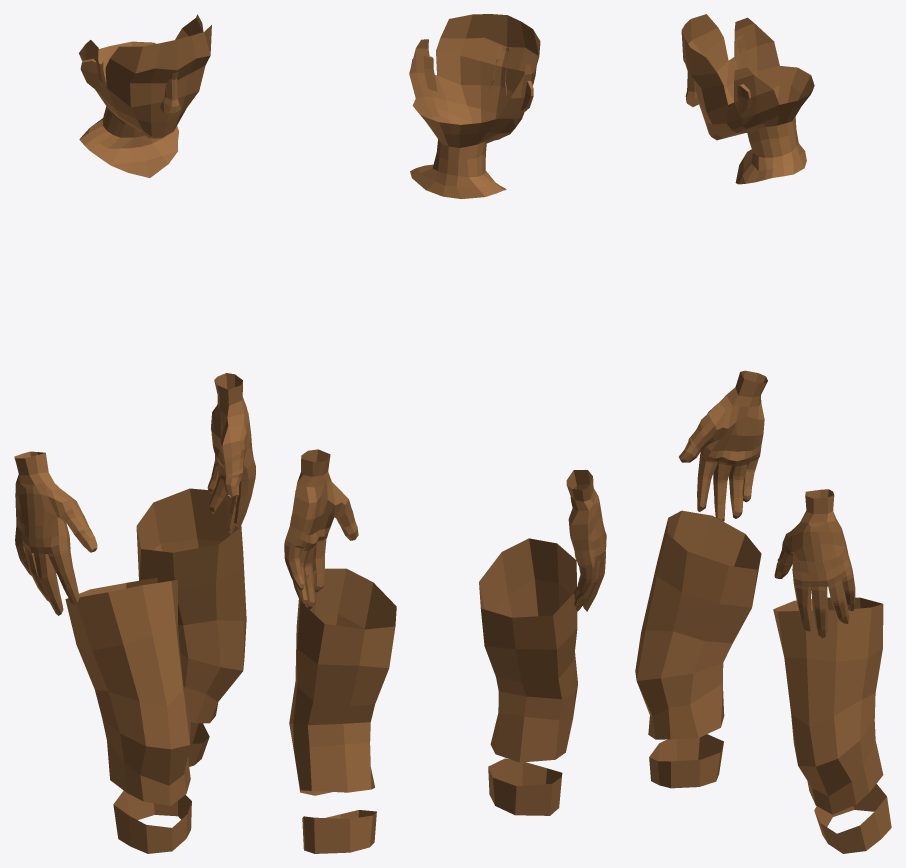
Rendered from Skin_002.obj.
The picture shows the model from 3 angles, left to right: view 1: azimuth 30°, elevation 25°; view 2: azimuth 150°, elevation 25°; view 3: azimuth 270°, elevation 25°; orthographic projection. The views are drawn at different scales.
Bounding box in the file's own units: 0.4723 × 1.36 × 0.4088.
